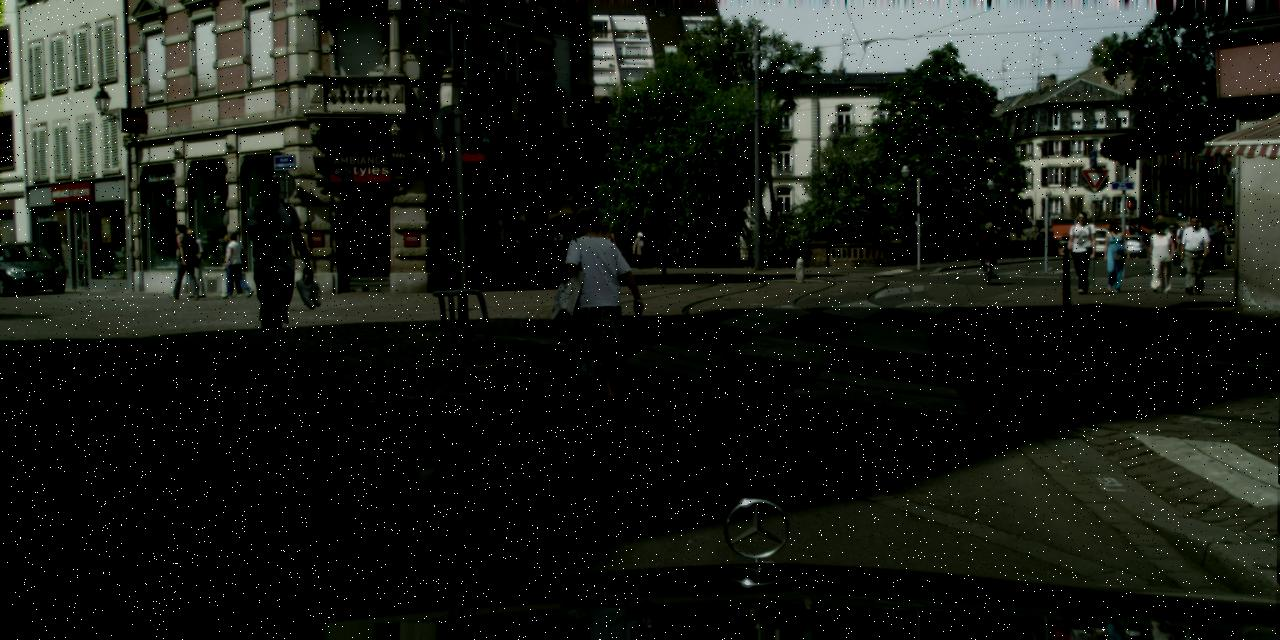ped: (554, 205, 636, 404), (232, 176, 312, 371), (1064, 211, 1098, 294), (1178, 214, 1210, 294), (1098, 217, 1129, 293), (168, 224, 198, 298), (1146, 221, 1175, 292), (179, 229, 206, 297), (222, 232, 249, 297), (217, 234, 242, 297), (1168, 220, 1188, 276), (979, 221, 1000, 274), (596, 223, 616, 276), (1194, 222, 1212, 264), (1208, 220, 1224, 261), (632, 231, 647, 268), (1224, 223, 1238, 259), (992, 225, 1006, 258), (1208, 224, 1228, 235)
